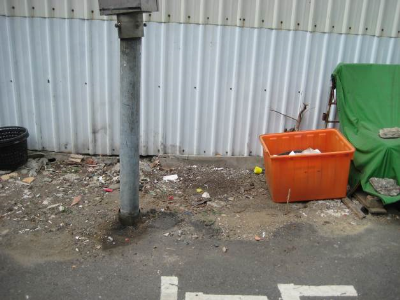box: (257, 128, 355, 205)
plastic_bag: (332, 58, 400, 205)
